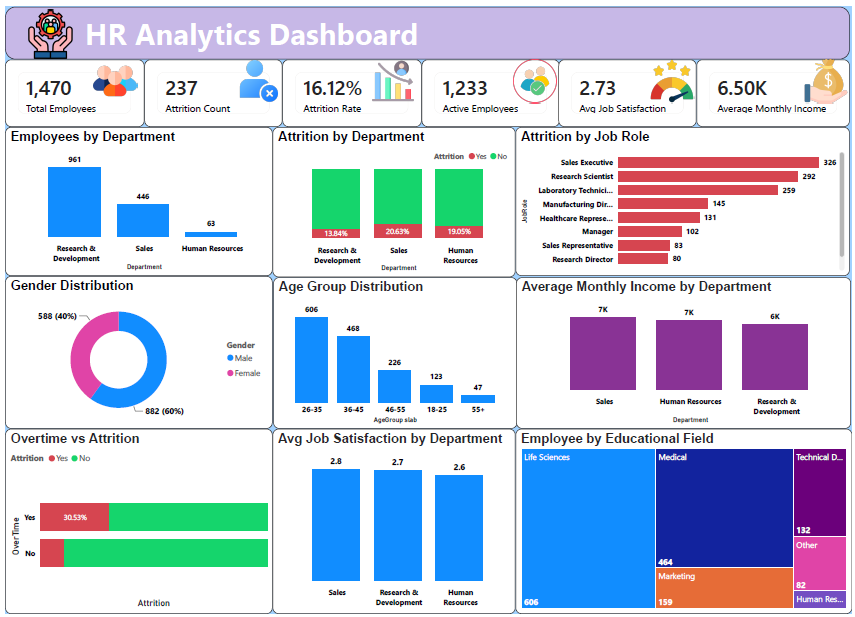

The page's visual inventory and layout, read from the dashboard file:
{"tool":"powerbi","page":{"name":"Dashboard","canvas":[1380,990],"ordinal":0},"visuals":[{"type":"textbox","box":[0,0,1377,86.4],"z":0},{"type":"cardVisual","title":"Total Employees","fields":{"Data":["HR_Analytics.Total Employes"]},"box":[0,86.4,226.8,109.8],"z":1000},{"type":"cardVisual","fields":{"Data":["HR_Analytics.Attrition Count"]},"box":[226.8,86.4,225,109.8],"z":2000},{"type":"cardVisual","fields":{"Data":["HR_Analytics.Active Employees"]},"box":[678.6,86.4,225,109.8],"z":3000},{"type":"cardVisual","fields":{"Data":["HR_Analytics.Attrition Rate"]},"box":[451.8,86.4,226.8,109.8],"z":4000},{"type":"cardVisual","fields":{"Data":["HR_Analytics.Average Monthly Income"]},"box":[1126.8,86.4,250.2,109.8],"z":5000},{"type":"columnChart","title":"Employees by Department","fields":{"Category":["HR_Analytics.Department"],"Y":["CountNonNull(HR_Analytics.EmpID)"]},"box":[0,196.2,435.6,243],"z":6000},{"type":"hundredPercentStackedColumnChart","title":"Attrition by Department","fields":{"Y":["CountNonNull(HR_Analytics.Attrition)"],"Category":["HR_Analytics.Department"],"Series":["HR_Analytics.Attrition"]},"box":[435.6,196.2,396,244.8],"z":7000},{"type":"barChart","title":"Attrition by Job Role","fields":{"Category":["HR_Analytics.JobRole"],"Y":["CountNonNull(HR_Analytics.Attrition)"]},"box":[831.6,196.2,545.4,243],"z":8000},{"type":"donutChart","title":"Gender Distribution","fields":{"Category":["HR_Analytics.Gender"],"Y":["CountNonNull(HR_Analytics.Gender)"]},"box":[0,439.2,435.6,248.4],"z":9000},{"type":"columnChart","title":"Age Group Distribution","fields":{"Category":["HR_Analytics.AgeGroup slab"],"Y":["CountNonNull(HR_Analytics.EmpID)"]},"box":[437.4,441,397.8,246.6],"z":10000},{"type":"columnChart","fields":{"Y":["HR_Analytics.Average Monthly Income"],"Category":["HR_Analytics.Department"]},"box":[833.4,441,545.4,246.6],"z":11000},{"type":"hundredPercentStackedBarChart","title":"Overtime vs Attrition","fields":{"Category":["HR_Analytics.OverTime"],"Y":["CountNonNull(HR_Analytics.Attrition)"],"Series":["HR_Analytics.Attrition"]},"box":[0,687.6,435.6,302.4],"z":12000},{"type":"treemap","title":"Employee by Educational Field","fields":{"Values":["CountNonNull(HR_Analytics.EmpID)"],"Group":["HR_Analytics.EducationField"]},"box":[831.6,687.6,549,302.4],"z":13000},{"type":"cardVisual","fields":{"Data":["HR_Analytics.Avg Job Satisfaction"]},"box":[901.8,86.4,225,109.8],"z":14000},{"type":"columnChart","fields":{"Y":["HR_Analytics.Avg Job Satisfaction"],"Category":["HR_Analytics.Department"]},"box":[435.6,687.6,396,302.4],"z":15000},{"type":"image","box":[140.4,86.4,77.4,70.2],"z":16000},{"type":"image","box":[374.4,86.4,77.4,70.2],"z":17000},{"type":"image","box":[594,86.4,77.4,70.2],"z":18000},{"type":"image","box":[824.4,86.4,77.4,70.2],"z":19000},{"type":"image","box":[1047.6,86.4,79.2,70.2],"z":20000},{"type":"image","box":[1299.6,86.4,77.4,70.2],"z":21000},{"type":"image","box":[34.2,1.8,79.2,84.6],"z":22000}]}

Visuals, with their boxes in screenshot pixels (x1, y1, x2, y2), scaled from the page's 1380x990 canvas onto the 855x617 screenshot:
textbox: [0, 0, 853, 54]
"Total Employees" cardVisual: [0, 54, 141, 122]
cardVisual - HR_Analytics.Attrition Count: [141, 54, 280, 122]
cardVisual - HR_Analytics.Active Employees: [420, 54, 560, 122]
cardVisual - HR_Analytics.Attrition Rate: [280, 54, 420, 122]
cardVisual - HR_Analytics.Average Monthly Income: [698, 54, 853, 122]
"Employees by Department" columnChart: [0, 122, 270, 274]
"Attrition by Department" hundredPercentStackedColumnChart: [270, 122, 515, 275]
"Attrition by Job Role" barChart: [515, 122, 853, 274]
"Gender Distribution" donutChart: [0, 274, 270, 429]
"Age Group Distribution" columnChart: [271, 275, 517, 429]
columnChart - HR_Analytics.Average Monthly Income x HR_Analytics.Department: [516, 275, 854, 429]
"Overtime vs Attrition" hundredPercentStackedBarChart: [0, 429, 270, 616]
"Employee by Educational Field" treemap: [515, 429, 854, 616]
cardVisual - HR_Analytics.Avg Job Satisfaction: [559, 54, 698, 122]
columnChart - HR_Analytics.Avg Job Satisfaction x HR_Analytics.Department: [270, 429, 515, 616]
image: [87, 54, 135, 98]
image: [232, 54, 280, 98]
image: [368, 54, 416, 98]
image: [511, 54, 559, 98]
image: [649, 54, 698, 98]
image: [805, 54, 853, 98]
image: [21, 1, 70, 54]
